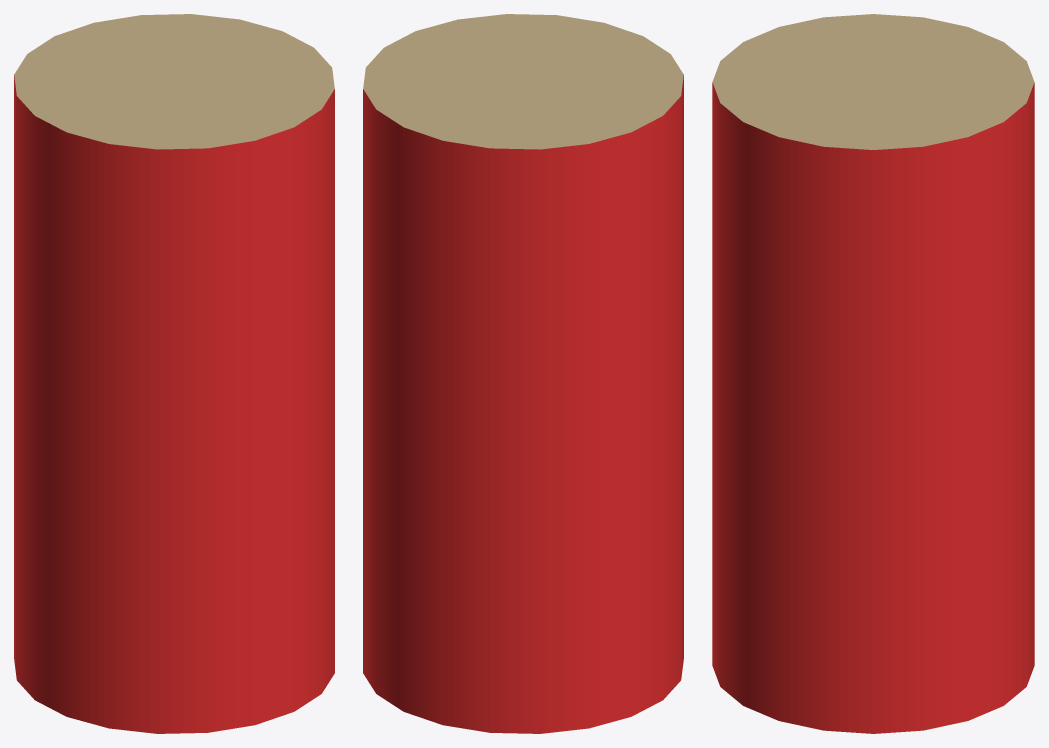
File: Can_1.fbx
3 renders of one model, left to right at view 1: azimuth 30°, elevation 25°; view 2: azimuth 150°, elevation 25°; view 3: azimuth 270°, elevation 25°, orthographic.
Visible parts, largest first — view 1: Cylinder; view 2: Cylinder; view 3: Cylinder.
Boxes of the visible parts, x1=… form: Cylinder: x1=14, y1=14, x2=334, y2=733; Cylinder: x1=363, y1=14, x2=683, y2=733; Cylinder: x1=712, y1=14, x2=1034, y2=733.
Bounding box in the file's own units: 10 × 20 × 10.
